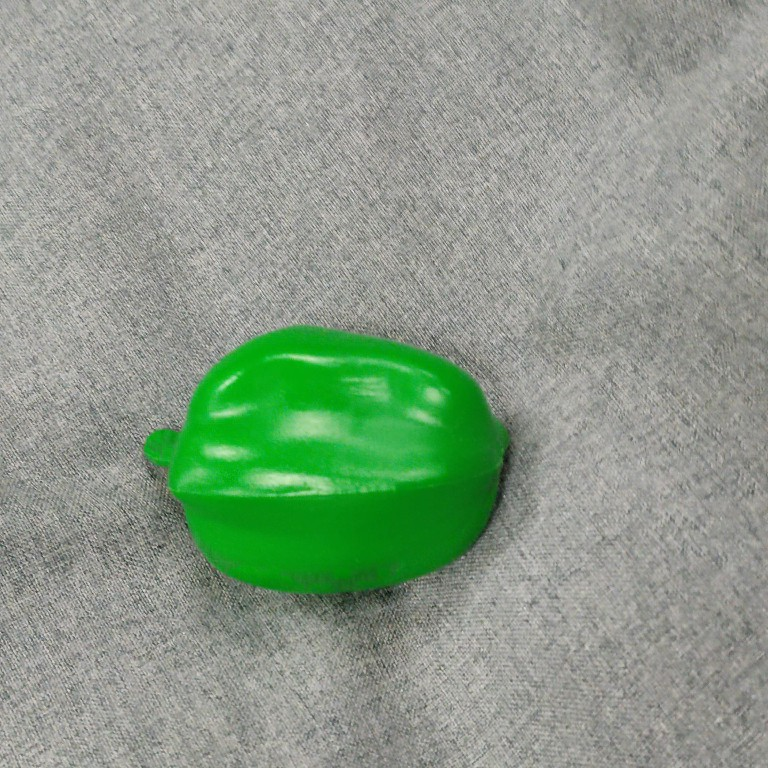fruit_pepper: (137, 321, 515, 600)
